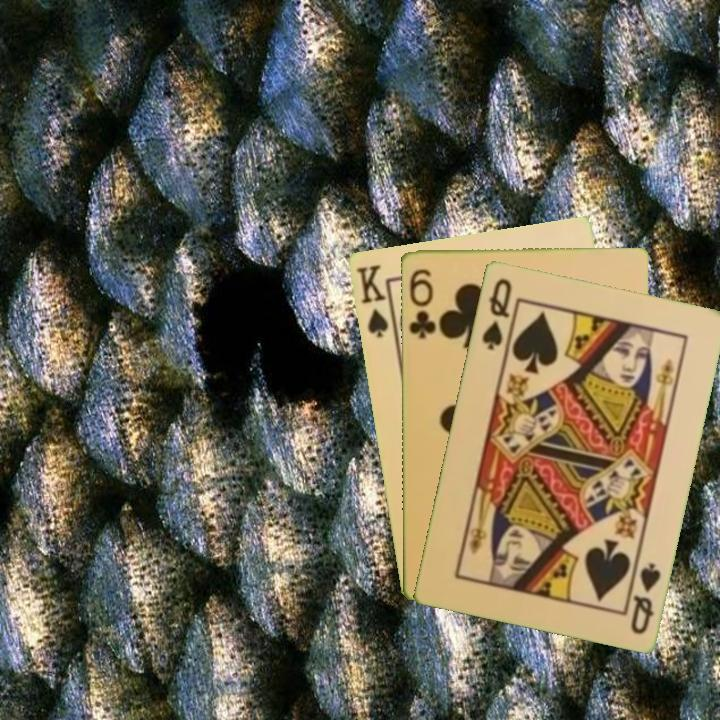6c: (405, 265, 438, 341)
Ks: (352, 260, 391, 340)
Qs: (623, 555, 664, 637), (477, 274, 514, 353)
